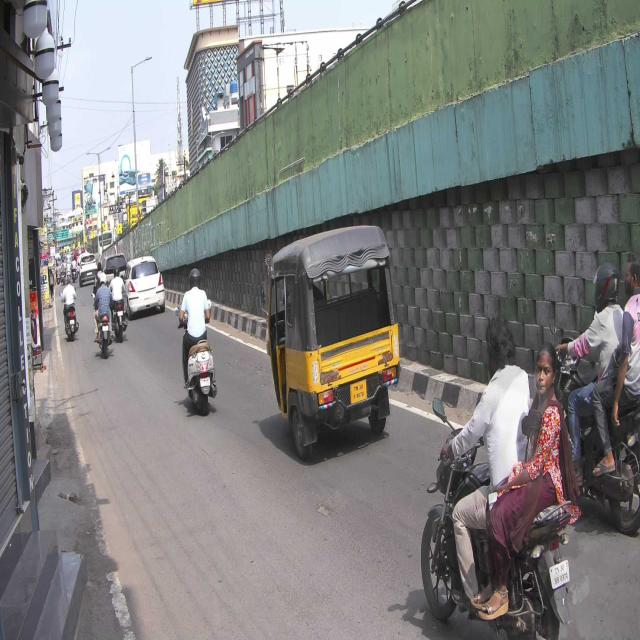double_rider: (421, 312, 575, 640)
